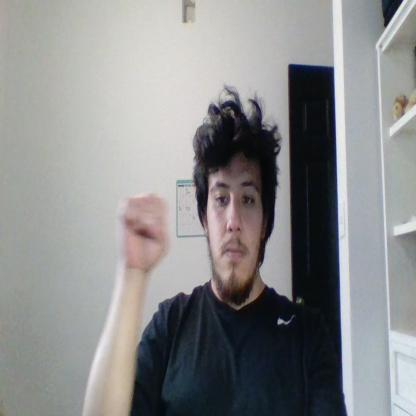S: (118, 192, 169, 274)
